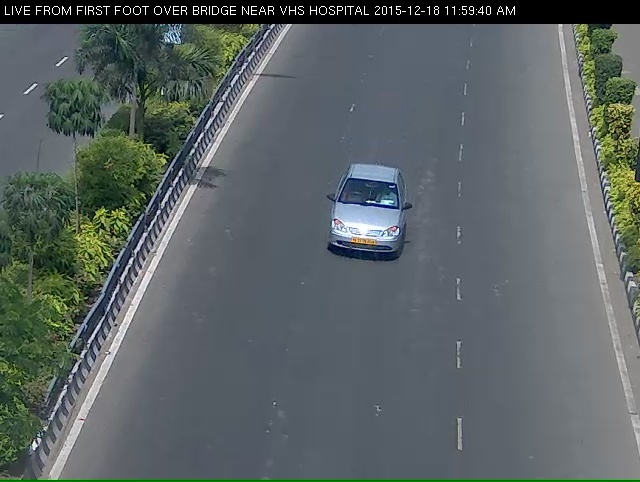Car: (320, 169, 416, 286)
